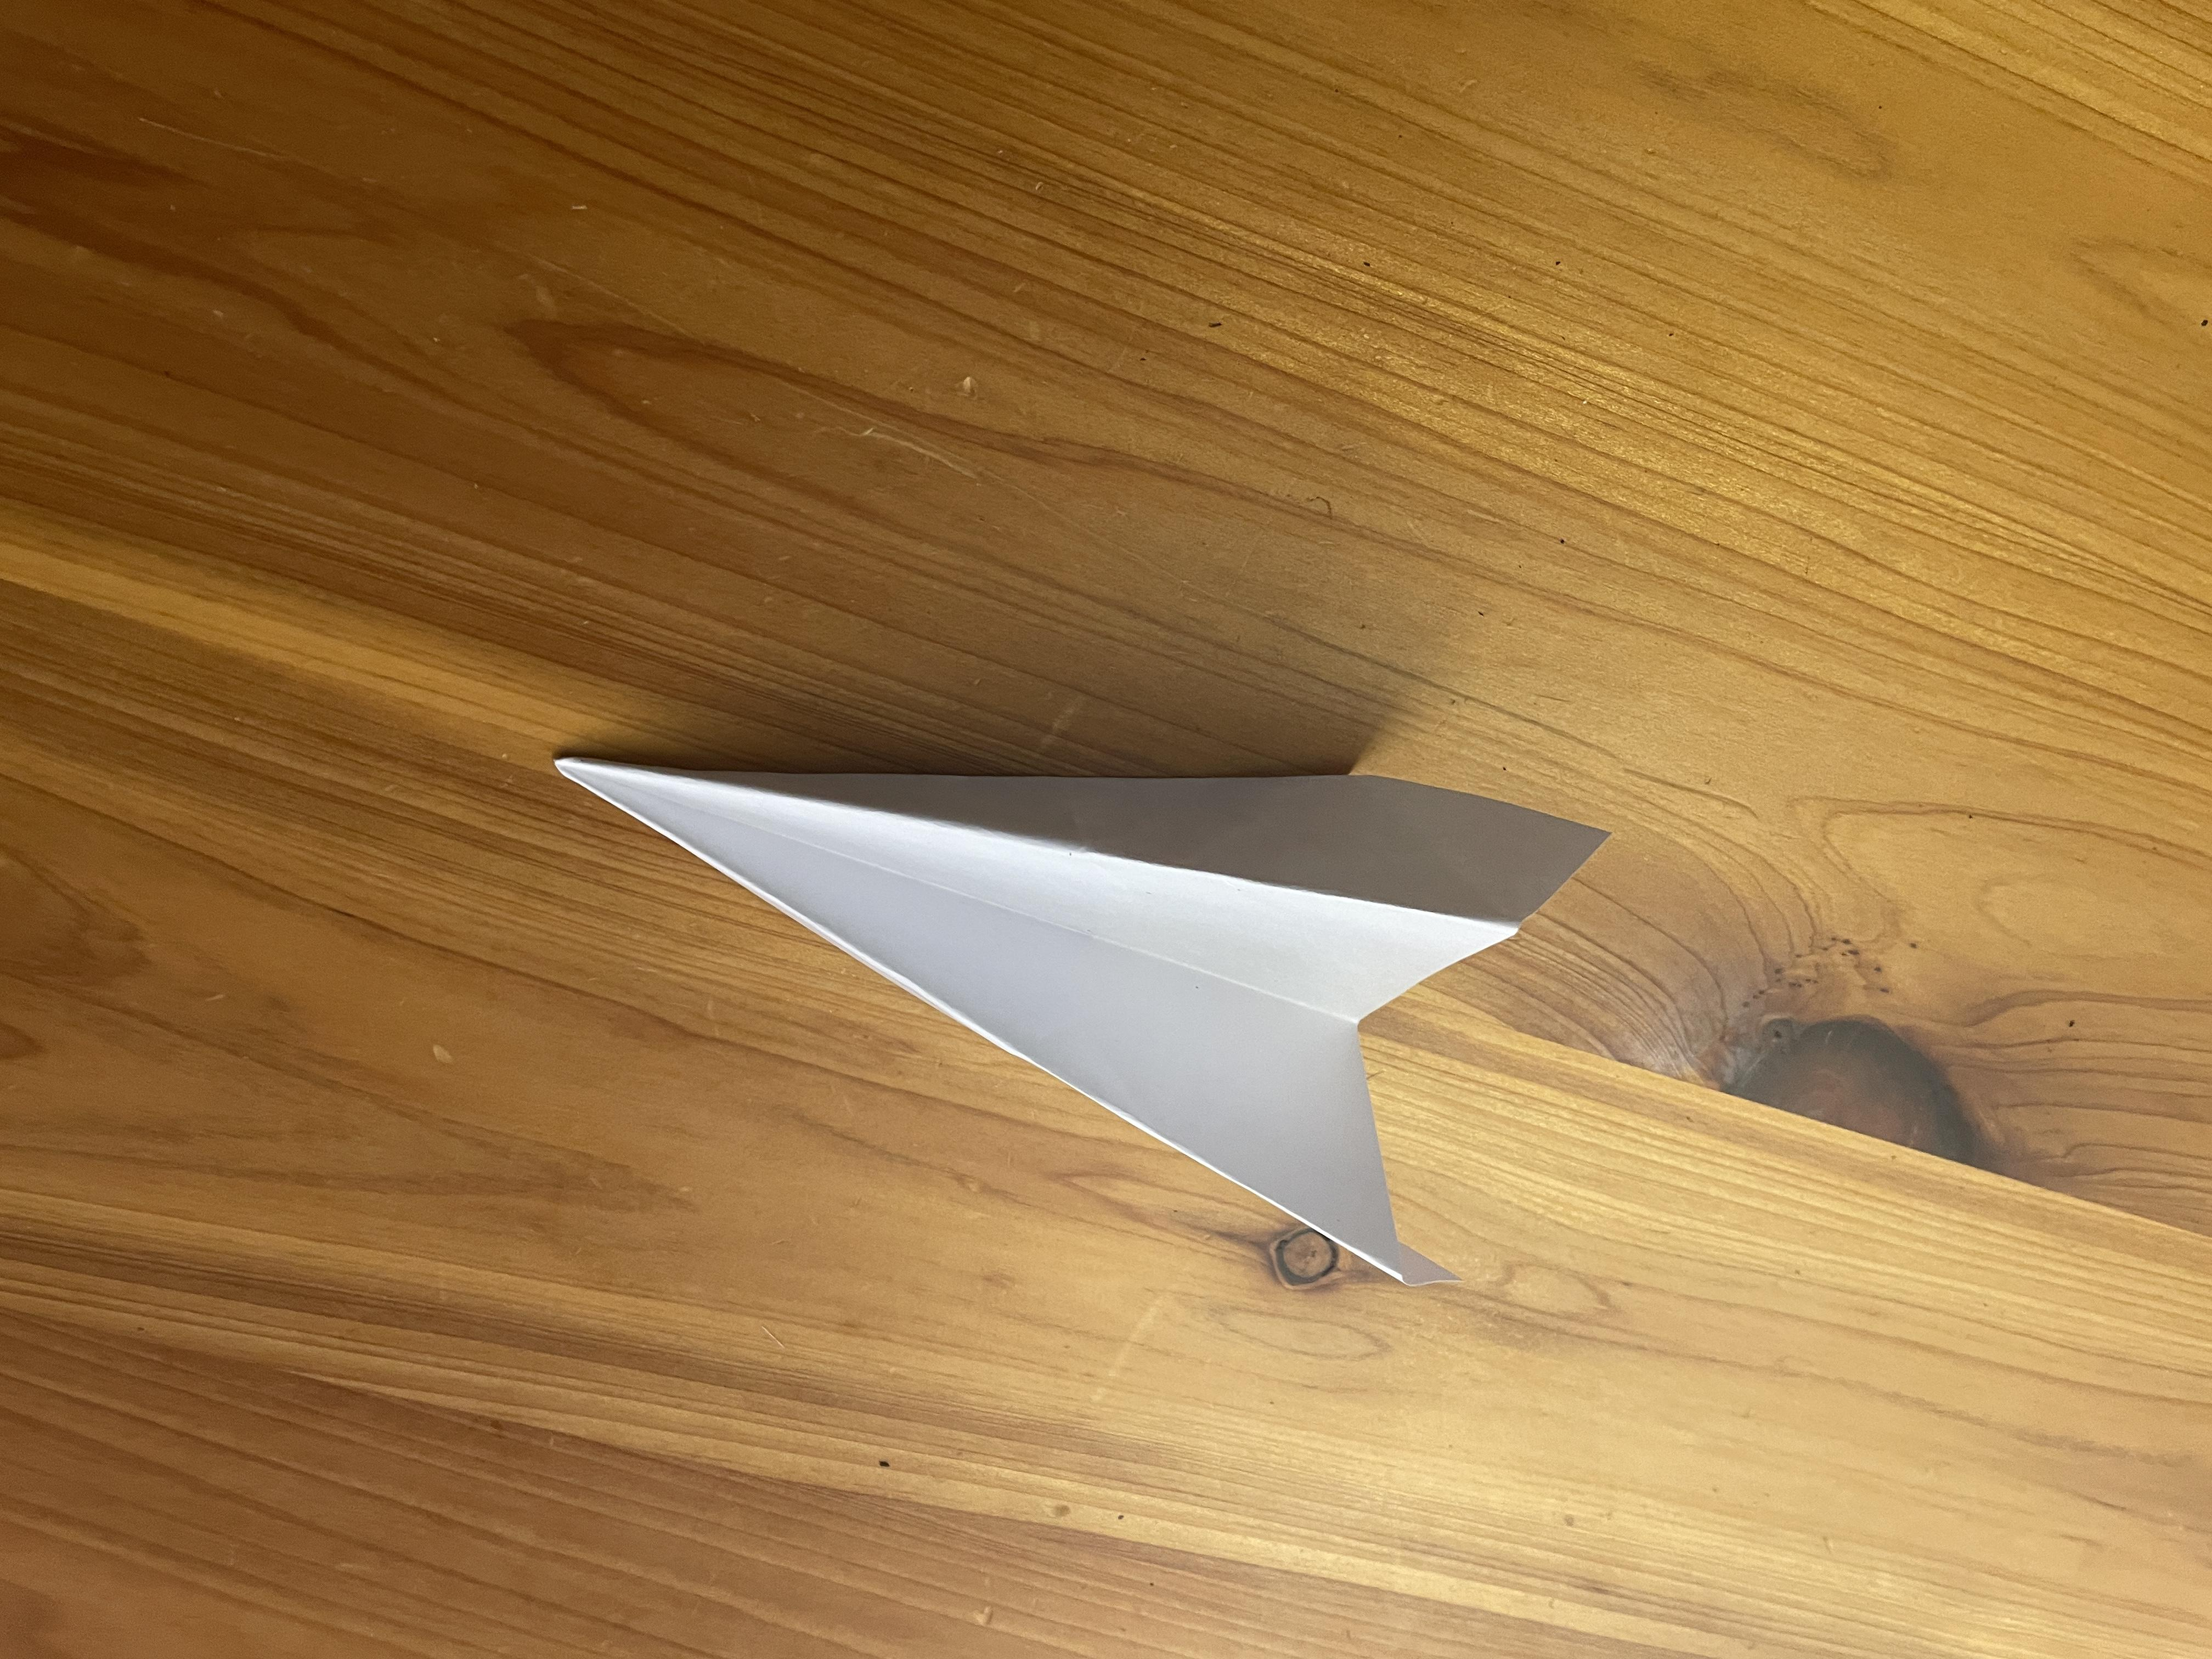shape_3: (486, 500, 1700, 1347)
